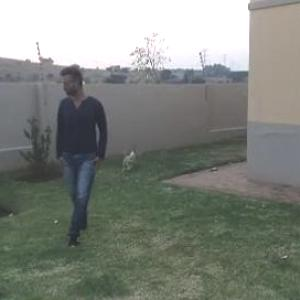follow: (64, 58, 112, 230)
